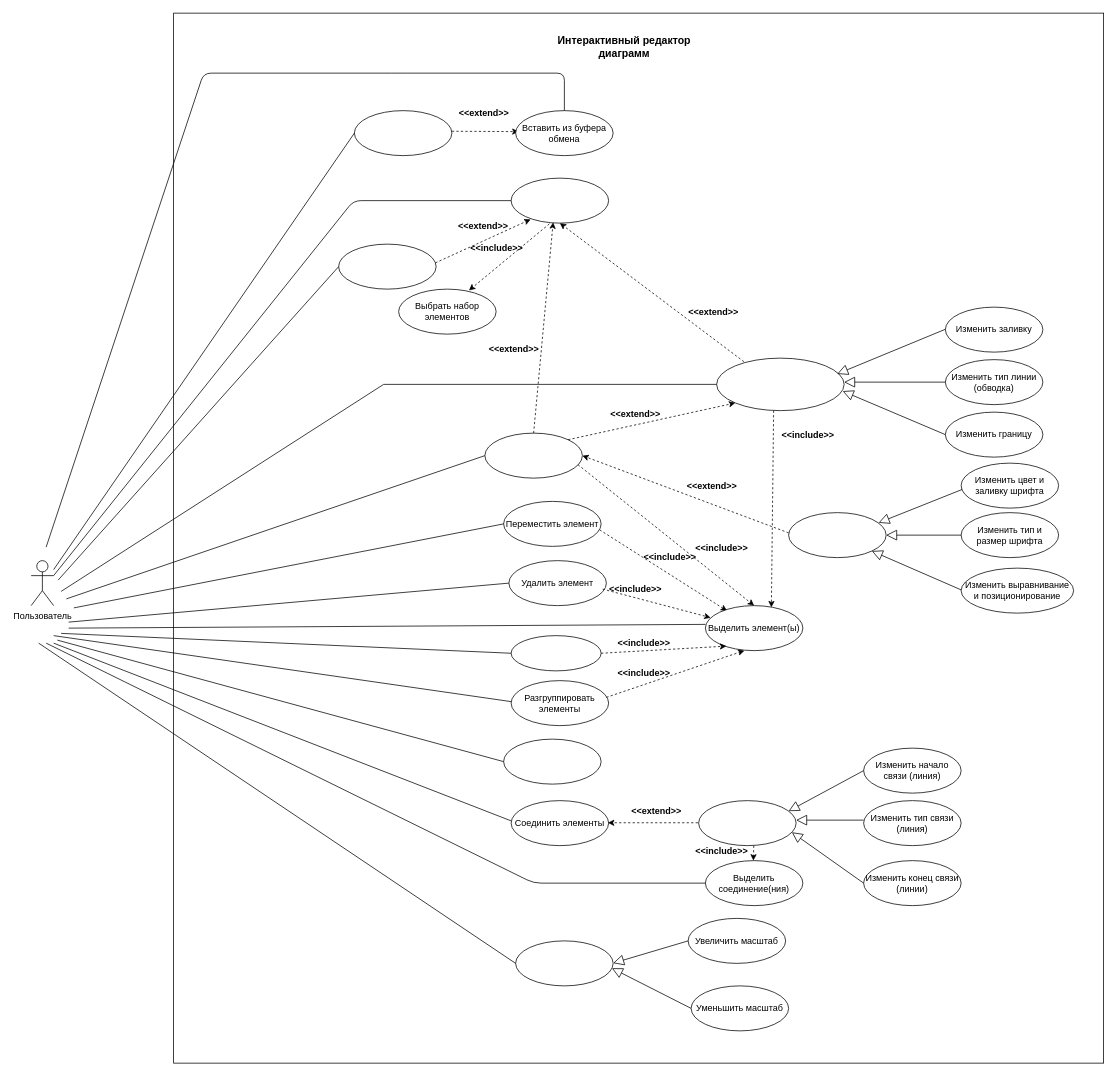
The diagram is 1117 pixels wide and 1076 high, and some of its shapes have lost their labels. The shapes that lost their labels are listed below. From the top down, each one's centre as x and y in pixels, then its label:
the point at 403,133: Копировать элемент
the point at 559,200: Добавить элемент
the point at 387,266: Настроить свойства элемента
the point at 780,384: Изменить элемент(ы)
the point at 533,455: Добавить текст к элементу
the point at 837,535: Редактировать текст
the point at 555,653: Сгруппировать элементы
the point at 552,761: Поиск по элементам
the point at 747,823: Изменить внешний вид соединений
the point at 564,963: Масштабировать диаграмму
